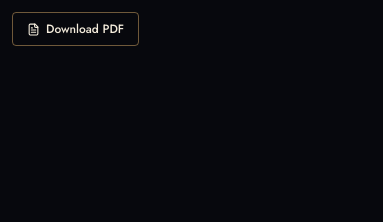
it: Ticket C-UI · DownloadPdfButton › 401 → honest 'not logged in' message, never a silent failure
Click the button with test id "health-pdf-download-btn": (76, 29) [12,12,139,46]
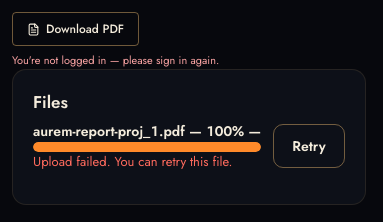
Result: the message with test id "health-pdf-download-error" is shown
Result: the message with test id "health-pdf-download-error" shows "sign in again" at [12,52,219,68]
